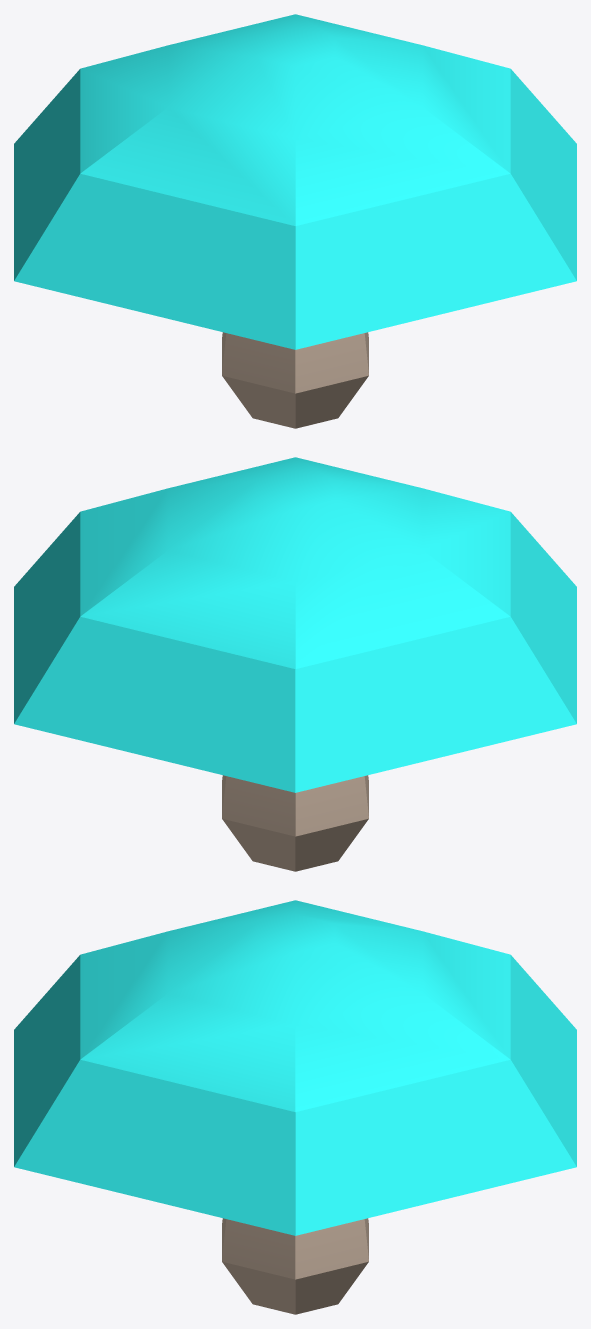
File: Mushroom_Blue_01.fbx
The picture shows the model from 3 angles, top to bottom: view 1: azimuth 30°, elevation 25°; view 2: azimuth 150°, elevation 25°; view 3: azimuth 270°, elevation 25°; orthographic projection.
Parts seen in each view (by area): view 1: Mushroom_Blue_01; view 2: Mushroom_Blue_01; view 3: Mushroom_Blue_01.
Boxes of the visible parts, x1,y1,x2,y2 form: Mushroom_Blue_01: (14, 14, 576, 428); Mushroom_Blue_01: (14, 457, 576, 871); Mushroom_Blue_01: (14, 900, 576, 1314).
Size of the model in its own units: 13.69 by 8.37 by 11.86.
